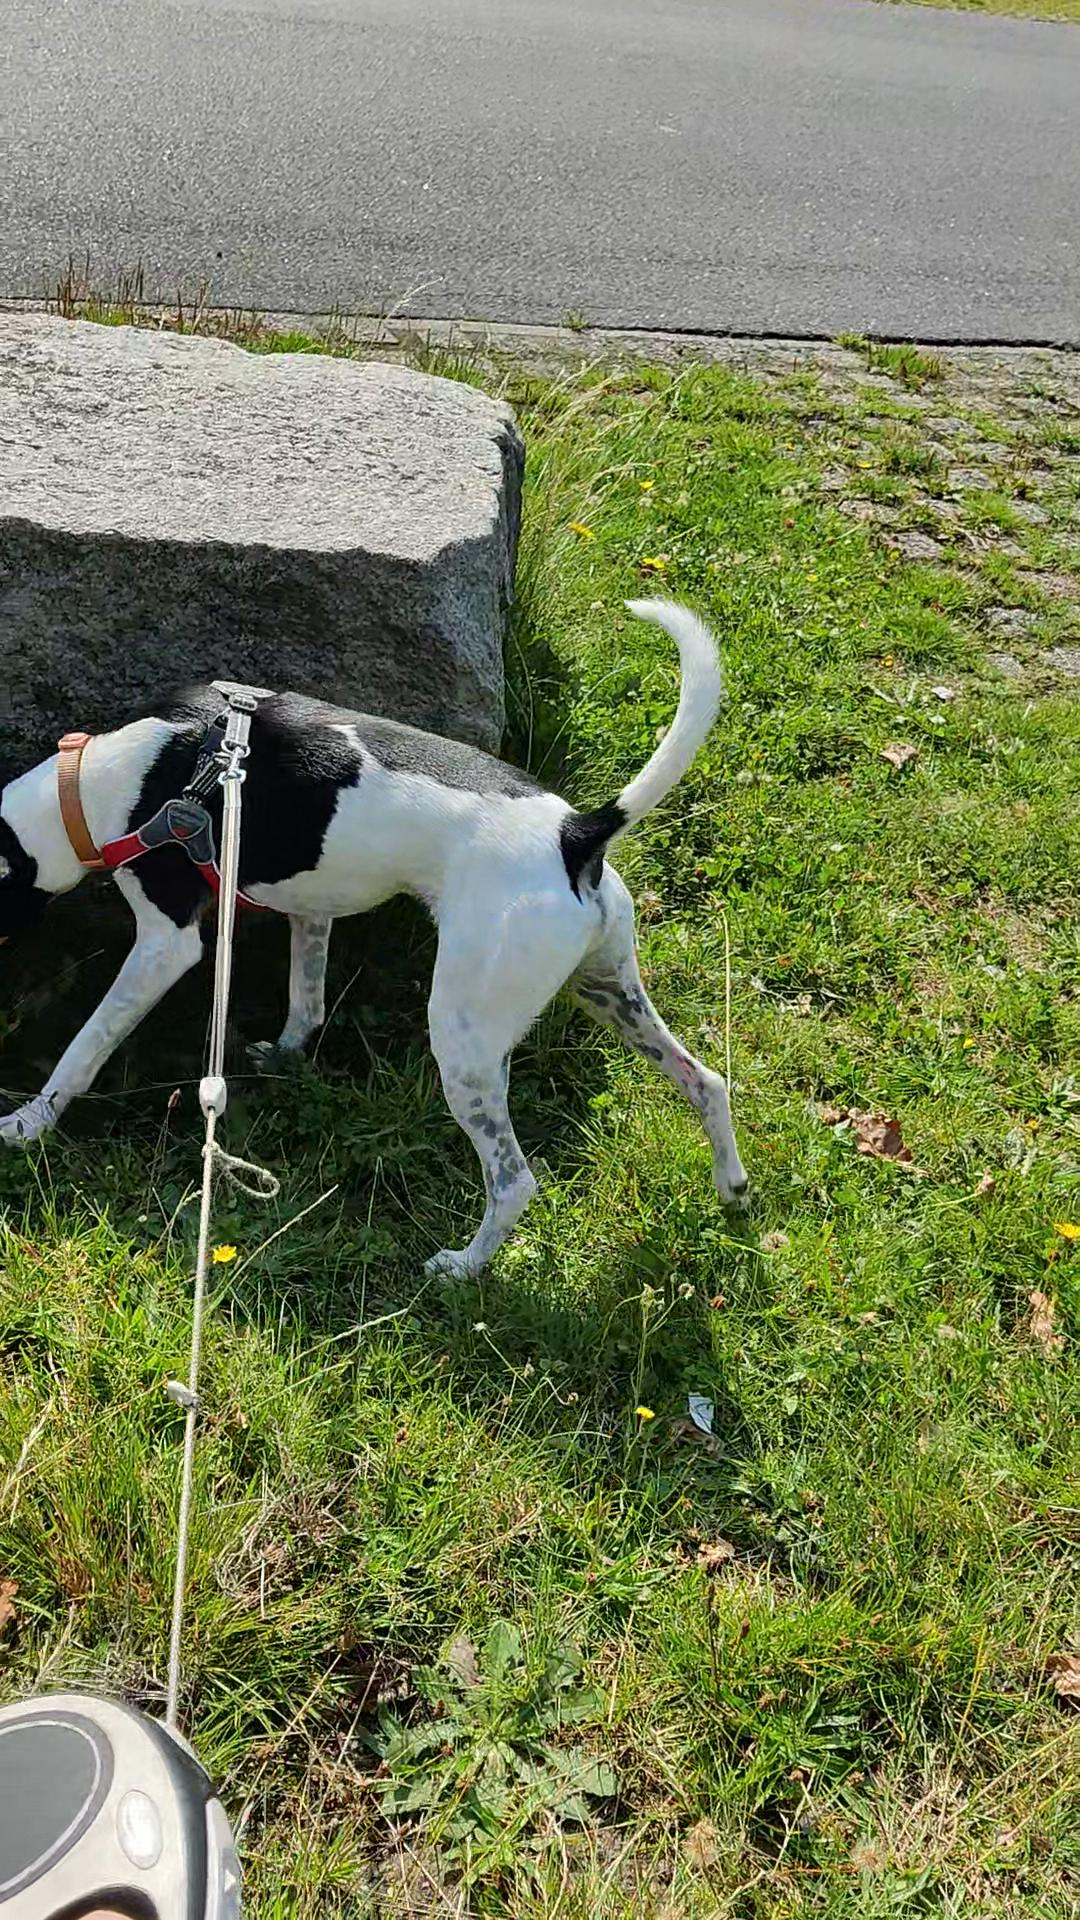Dog: (0, 551, 771, 1324)
